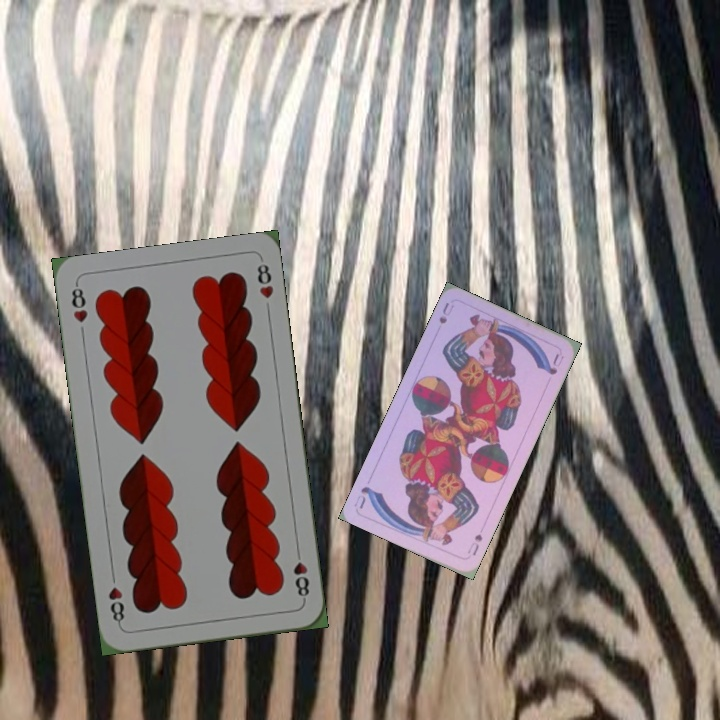H8: (289, 544, 312, 604), (67, 280, 91, 326)
SU: (435, 298, 457, 327), (463, 530, 485, 558)
